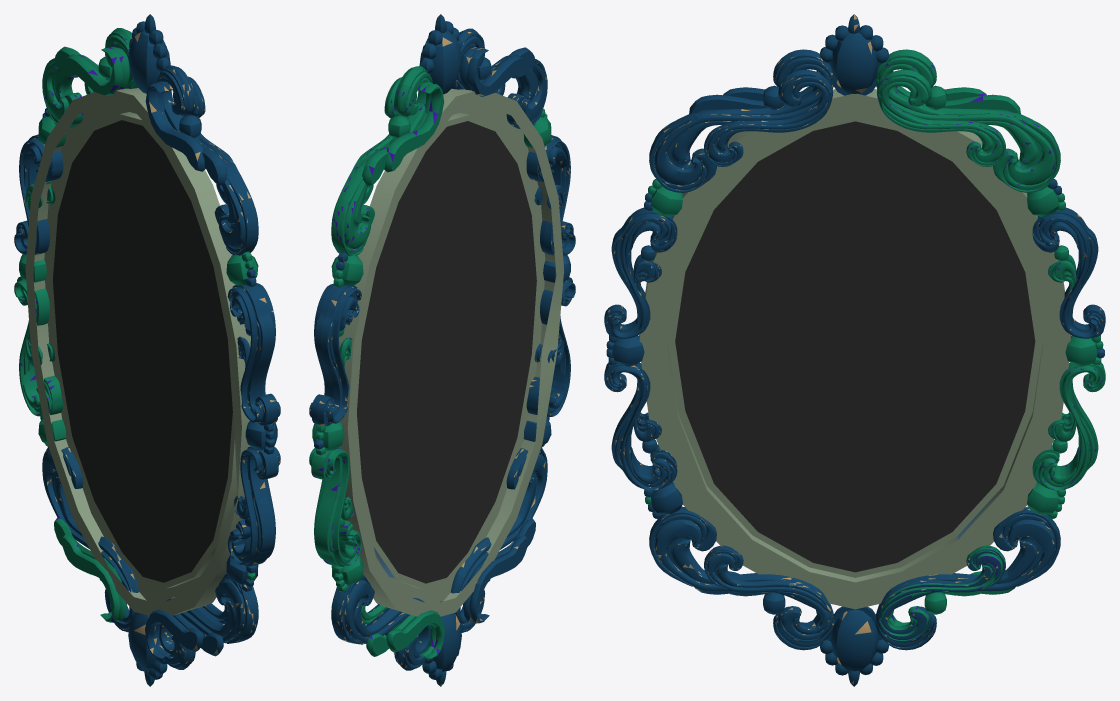
File: Mirror.FBX
3 renders of one model, left to right at view 1: azimuth 30°, elevation 25°; view 2: azimuth 150°, elevation 25°; view 3: azimuth 270°, elevation 25°, orthographic.
Visible parts, largest first — view 1: Mirror, 026_0_26, 021_0_21, 027_0_27; view 2: Mirror, 026_0_26, 021_0_21, 027_0_27; view 3: Mirror, 026_0_26, 021_0_21, 027_0_27.
Boxes of the visible parts, x1,y1,x2,y2 form: Mirror: [53, 120, 232, 582]; 026_0_26: [14, 14, 280, 686]; 021_0_21: [25, 88, 250, 615]; 027_0_27: [14, 28, 258, 622]; Mirror: [357, 121, 536, 583]; 026_0_26: [309, 14, 575, 686]; 021_0_21: [339, 88, 563, 616]; 027_0_27: [309, 66, 551, 658]; Mirror: [675, 121, 1035, 572]; 026_0_26: [604, 14, 1105, 686]; 021_0_21: [639, 89, 1071, 609]; 027_0_27: [645, 49, 1105, 640].
Size of the model in its own units: 2.1 by 33.42 by 22.58.
